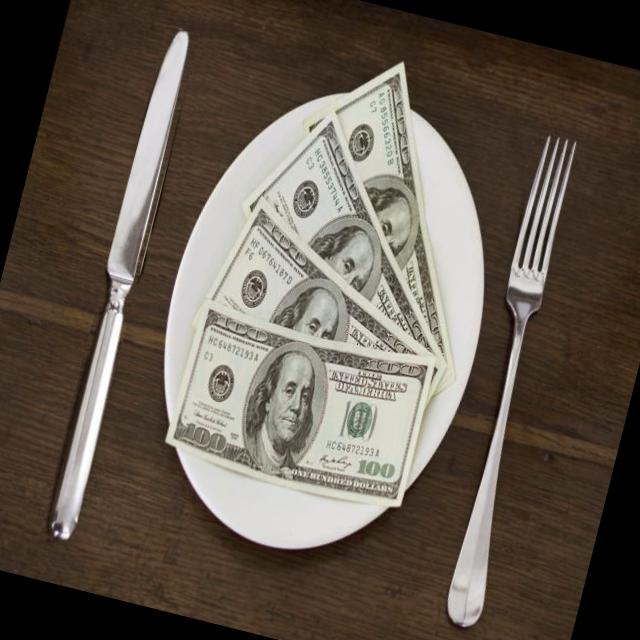Knife: (50, 32, 189, 541)
